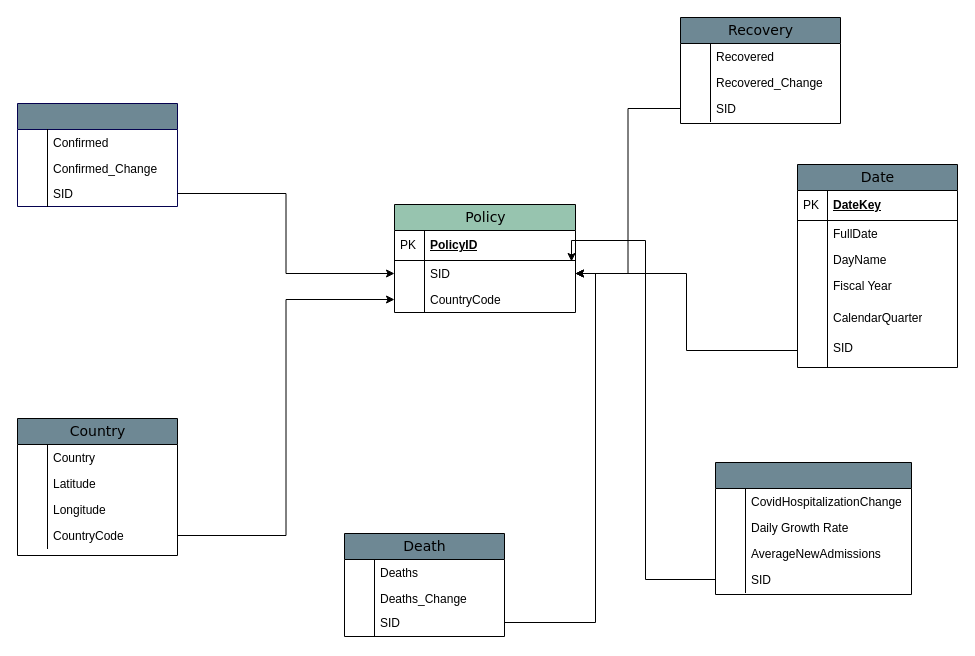
This 975x656 diagram has some shape labels left out. The shapes that lost their labels are listed below. From the top down, each one's box as (x1, y1, x2, y2) in pixels, then its label:
(16, 102, 178, 206): Case
(714, 462, 912, 594): Hospital Admissions
